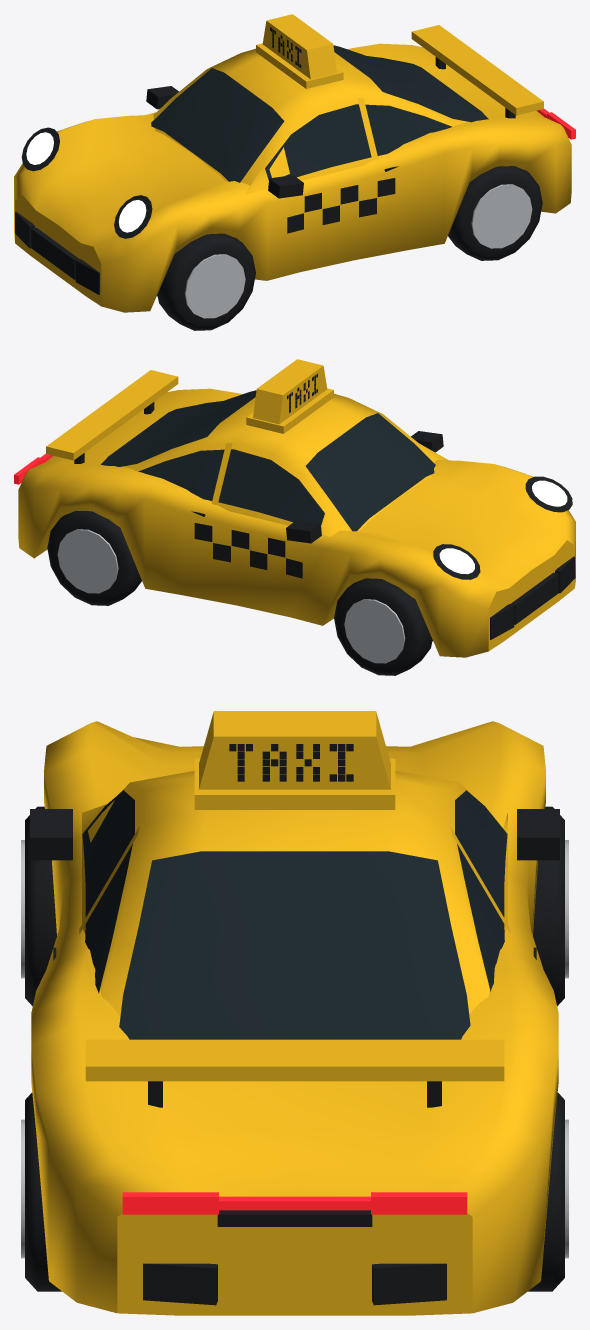
Rendered from porsche-911.glb.
The picture shows the model from 3 angles, top to bottom: view 1: azimuth 30°, elevation 25°; view 2: azimuth 150°, elevation 25°; view 3: azimuth 270°, elevation 25°; orthographic projection. The views are drawn at different scales.
Visible parts, largest first — view 1: BODY_Body, GLASS_Glass, TIRE (×2), WHEEL_FACE (×2), ROOF_ACCESSORY_Body, REAR_ACCESSORY_Body, FRONT_ACCESSORY_Black, DECALS_Black, HEADLIGHTS_Lights, HEADLIGHTS_Black, SIDE_ACCESSORY_Black; view 2: BODY_Body, GLASS_Glass, TIRE (×2), WHEEL_FACE (×2), ROOF_ACCESSORY_Body, REAR_ACCESSORY_Body, FRONT_ACCESSORY_Black, DECALS_Black, HEADLIGHTS_Lights, HEADLIGHTS_Black, SIDE_ACCESSORY_Black; view 3: BODY_Body, GLASS_Glass, REAR_ACCESSORY_Body, ROOF_ACCESSORY_Body, TIRE (×4), BODY_Black, TAILLIGHTS_Taillights, SIDE_ACCESSORY_Black, ROOF_ACCESSORY_Black, REAR_ACCESSORY_Black.
Boxes of the visible parts, <box> form: BODY_Body: <box>14,43,571,312</box>; GLASS_Glass: <box>151,45,488,182</box>; TIRE (×2): <box>157,166,542,330</box>; WHEEL_FACE (×2): <box>184,184,532,318</box>; ROOF_ACCESSORY_Body: <box>256,14,343,88</box>; REAR_ACCESSORY_Body: <box>411,25,543,115</box>; FRONT_ACCESSORY_Black: <box>15,211,99,294</box>; DECALS_Black: <box>287,178,395,233</box>; HEADLIGHTS_Lights: <box>26,132,146,232</box>; HEADLIGHTS_Black: <box>21,127,152,238</box>; SIDE_ACCESSORY_Black: <box>146,86,303,198</box>; BODY_Body: <box>18,388,575,657</box>; GLASS_Glass: <box>101,390,435,531</box>; TIRE (×2): <box>47,510,432,675</box>; WHEEL_FACE (×2): <box>57,529,405,663</box>; ROOF_ACCESSORY_Body: <box>246,359,333,433</box>; REAR_ACCESSORY_Body: <box>46,370,178,460</box>; FRONT_ACCESSORY_Black: <box>490,556,574,639</box>; DECALS_Black: <box>194,523,302,578</box>; HEADLIGHTS_Lights: <box>439,480,567,574</box>; HEADLIGHTS_Black: <box>433,476,572,579</box>; SIDE_ACCESSORY_Black: <box>286,431,443,543</box>; BODY_Body: <box>31,721,558,1315</box>; GLASS_Glass: <box>82,790,507,1039</box>; REAR_ACCESSORY_Body: <box>85,1039,504,1081</box>; ROOF_ACCESSORY_Body: <box>194,711,395,809</box>; TIRE (×4): <box>25,806,564,1291</box>; BODY_Black: <box>53,947,536,1305</box>; TAILLIGHTS_Taillights: <box>122,1192,467,1214</box>; SIDE_ACCESSORY_Black: <box>30,809,559,860</box>; ROOF_ACCESSORY_Black: <box>229,744,353,781</box>; REAR_ACCESSORY_Black: <box>148,1081,441,1107</box>.
Bounding box in the file's own units: 4.37 × 1.86 × 2.16.
